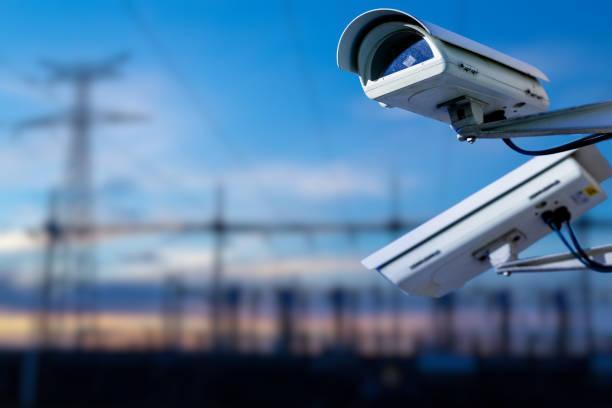camera: (354, 118, 612, 311), (304, 0, 570, 142)
